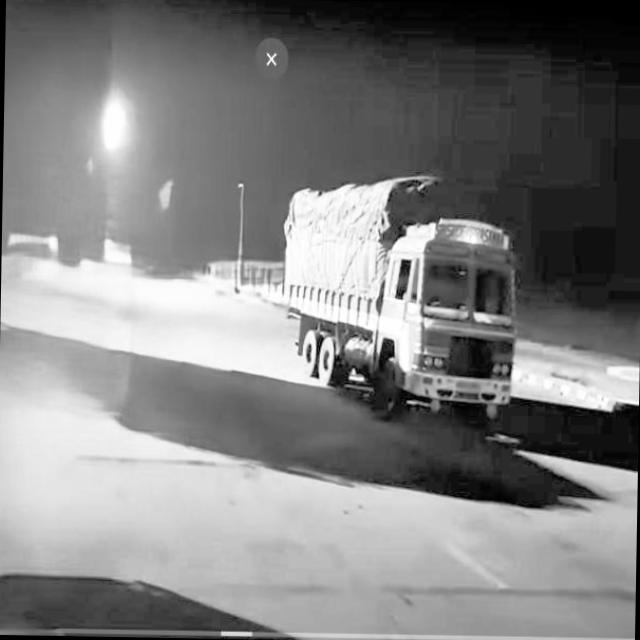Truck: (278, 170, 519, 420)
